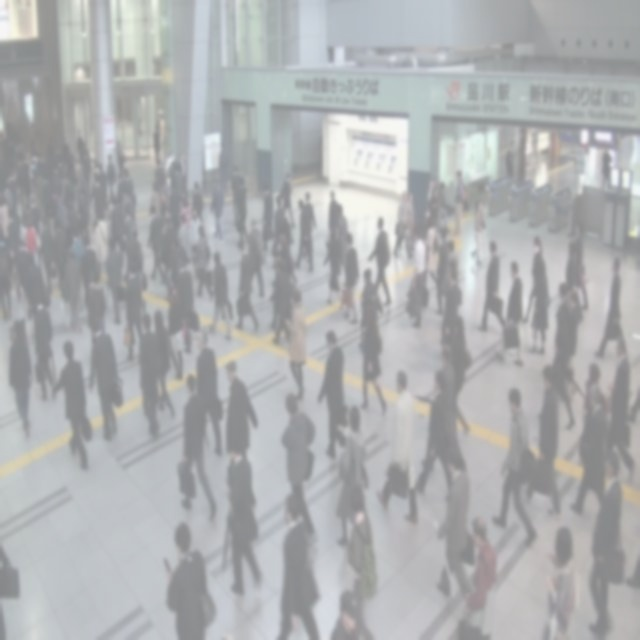pessoa: (491, 385, 538, 548), (586, 449, 626, 639), (376, 368, 420, 528), (274, 493, 322, 639), (162, 522, 217, 638), (523, 361, 562, 519), (280, 391, 319, 548), (436, 446, 474, 604), (180, 374, 218, 522), (429, 344, 469, 480), (414, 369, 456, 496), (52, 338, 92, 469), (335, 404, 370, 550), (228, 446, 262, 596), (344, 484, 376, 639), (570, 382, 607, 514), (605, 336, 638, 483), (538, 525, 580, 639), (88, 316, 124, 442), (318, 329, 350, 462), (462, 516, 496, 630), (592, 256, 628, 360), (195, 330, 223, 458), (550, 302, 578, 430), (226, 359, 258, 462), (7, 317, 34, 439), (446, 316, 472, 442), (628, 323, 640, 596), (476, 238, 509, 334), (360, 304, 387, 416), (138, 312, 161, 436), (152, 308, 176, 420), (33, 292, 57, 403), (526, 256, 552, 356), (284, 289, 306, 404), (366, 214, 393, 306), (504, 260, 526, 368), (269, 258, 294, 350), (234, 237, 258, 332), (209, 251, 234, 341), (124, 261, 146, 363), (268, 243, 294, 329), (62, 237, 84, 332), (25, 112, 73, 155), (521, 234, 543, 326), (0, 538, 20, 638), (441, 258, 463, 348), (441, 268, 462, 359), (410, 228, 428, 330), (167, 290, 187, 380), (176, 257, 194, 355), (192, 224, 215, 300), (341, 232, 360, 324), (85, 265, 106, 347), (80, 233, 102, 311), (327, 586, 360, 638), (146, 204, 167, 284), (105, 236, 124, 324), (324, 227, 344, 310), (420, 213, 440, 296), (292, 197, 314, 272), (572, 221, 590, 311), (392, 189, 414, 259), (442, 250, 462, 326), (10, 270, 28, 354), (0, 120, 25, 180), (122, 204, 140, 286), (247, 217, 265, 299), (583, 361, 608, 419), (434, 226, 450, 316), (93, 212, 111, 290), (0, 230, 15, 323), (51, 218, 68, 300), (28, 252, 48, 315), (470, 198, 488, 268), (39, 215, 54, 298), (360, 265, 384, 316), (302, 190, 318, 266), (210, 178, 227, 246), (260, 180, 276, 252), (278, 213, 298, 268), (280, 170, 298, 230), (76, 166, 90, 242), (235, 174, 249, 247), (454, 170, 469, 238), (63, 174, 79, 237), (110, 198, 124, 270), (564, 240, 582, 295), (15, 237, 32, 295), (168, 180, 182, 250), (564, 290, 578, 360), (162, 216, 176, 284), (121, 188, 139, 240), (176, 213, 191, 275), (125, 225, 142, 279), (170, 236, 188, 287), (424, 174, 438, 238), (91, 170, 105, 233), (92, 175, 106, 238), (60, 170, 74, 230), (188, 208, 202, 268), (336, 203, 348, 270), (6, 208, 22, 258), (42, 174, 55, 233), (64, 145, 79, 196), (104, 153, 118, 207), (404, 192, 416, 254), (54, 194, 68, 247), (436, 180, 450, 233), (34, 168, 48, 220), (157, 174, 170, 230), (271, 194, 285, 246), (98, 162, 110, 222), (556, 281, 570, 332), (6, 169, 18, 228), (16, 156, 27, 217), (21, 153, 32, 212), (10, 201, 22, 255), (178, 152, 190, 206), (328, 188, 340, 242), (230, 164, 240, 227), (26, 218, 38, 270), (68, 229, 86, 263), (66, 200, 80, 243), (81, 148, 92, 202), (116, 138, 128, 186), (18, 210, 31, 254), (218, 142, 229, 194), (164, 151, 176, 197), (428, 186, 440, 232), (0, 192, 10, 246), (148, 182, 162, 220), (192, 180, 204, 223), (600, 148, 612, 191), (78, 192, 88, 243), (504, 138, 516, 180), (34, 153, 46, 194), (28, 196, 40, 237), (150, 180, 162, 220), (50, 186, 60, 232), (178, 198, 192, 230), (152, 124, 162, 168), (29, 148, 38, 196), (61, 134, 70, 182), (172, 169, 184, 204), (3, 182, 14, 220), (46, 138, 56, 178), (51, 164, 63, 194), (168, 158, 178, 194), (76, 128, 85, 167), (124, 169, 134, 203), (153, 156, 164, 186), (116, 170, 124, 210), (23, 203, 32, 229), (217, 630, 242, 638), (93, 160, 101, 175)
